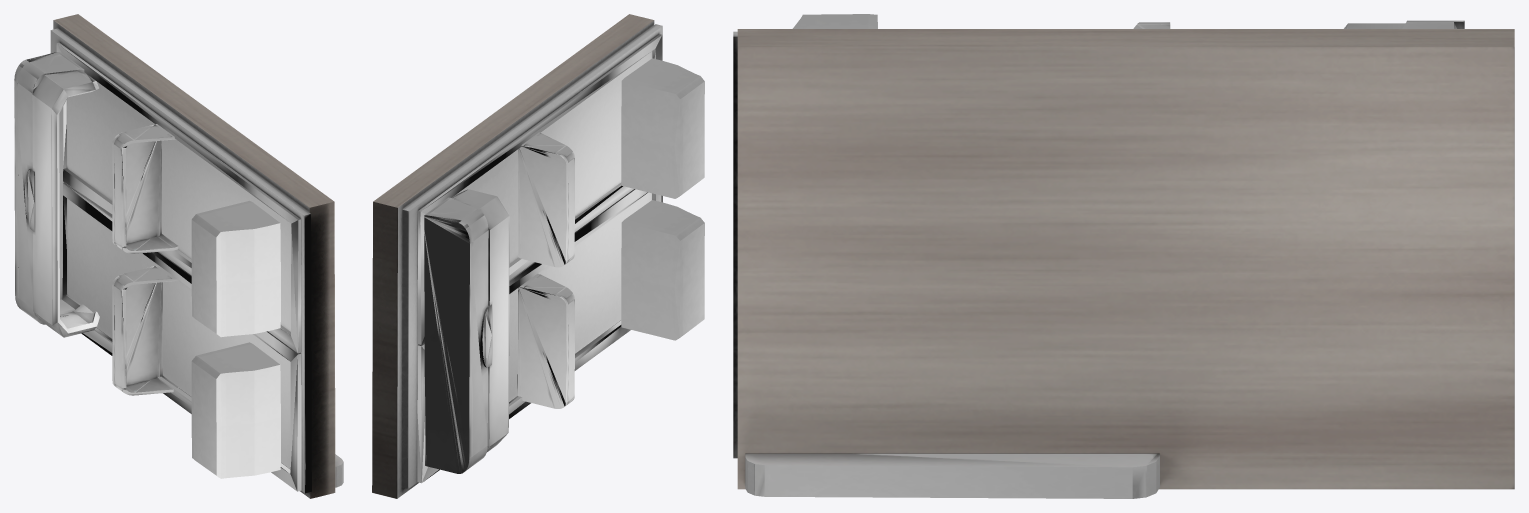
Rendered from top_door_brighter1.glb.
3 renders of one model, left to right at view 1: azimuth 30°, elevation 25°; view 2: azimuth 150°, elevation 25°; view 3: azimuth 270°, elevation 25°, orthographic. The views are drawn at different scales.
Visible parts, largest first — view 1: frl_apartment_refrigerator_doorShelfFull_00; view 2: frl_apartment_refrigerator_doorShelfFull_00; view 3: frl_apartment_refrigerator_doorShelfFull_00.
Part boxes in pixels (x1,y1,x2,y2): frl_apartment_refrigerator_doorShelfFull_00: (14, 14, 343, 498); frl_apartment_refrigerator_doorShelfFull_00: (372, 14, 704, 498); frl_apartment_refrigerator_doorShelfFull_00: (733, 14, 1514, 498).
Bounding box in the file's own units: 0.2906 × 0.6954 × 1.12.
1 material, 1 textured.
